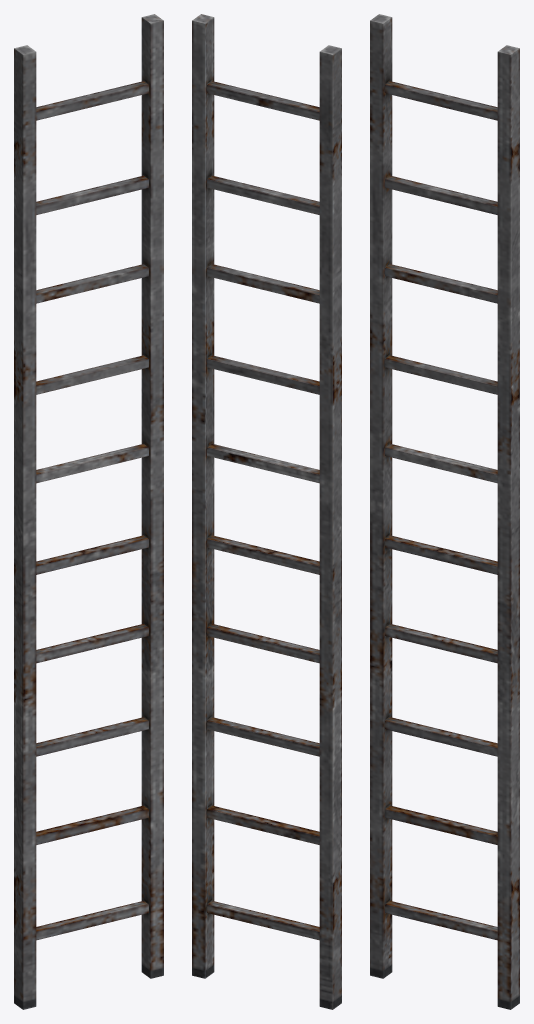
Rendered from Ladder_re.fbx.
3 views of the same model, side by side, from view 1: azimuth 30°, elevation 25°; view 2: azimuth 150°, elevation 25°; view 3: azimuth 330°, elevation 25° (orthographic).
Visible parts, largest first — view 1: Ladder_body, L3, L6, L2, L4, L1, L7, L10, L9, L8, L5; view 2: Ladder_body, L3, L6, L2, L4, L1, L7, L10, L9, L8, L5; view 3: Ladder_body, L3, L6, L2, L4, L1, L7, L10, L9, L8, L5.
Part boxes in pixels (<box>): Ladder_body: <box>14,14,163,1009</box>; L3: <box>36,264,148,303</box>; L6: <box>36,535,148,574</box>; L2: <box>36,175,148,214</box>; L4: <box>36,355,148,394</box>; L1: <box>36,81,148,120</box>; L7: <box>36,624,148,663</box>; L10: <box>36,901,148,940</box>; L9: <box>36,805,148,844</box>; L8: <box>36,717,148,756</box>; L5: <box>36,444,148,483</box>; Ladder_body: <box>192,14,341,1009</box>; L3: <box>207,264,319,303</box>; L6: <box>207,535,319,574</box>; L2: <box>207,175,319,214</box>; L4: <box>207,355,319,394</box>; L1: <box>207,81,319,120</box>; L7: <box>207,624,319,663</box>; L10: <box>207,901,319,940</box>; L9: <box>207,805,319,844</box>; L8: <box>207,717,319,756</box>; L5: <box>207,444,319,483</box>; Ladder_body: <box>370,14,519,1009</box>; L3: <box>385,264,497,303</box>; L6: <box>385,535,497,574</box>; L2: <box>385,175,497,214</box>; L4: <box>385,355,497,394</box>; L1: <box>385,81,497,120</box>; L7: <box>385,624,497,663</box>; L10: <box>385,901,497,940</box>; L9: <box>385,805,497,844</box>; L8: <box>385,717,497,756</box>; L5: <box>385,444,497,483</box>.
Size of the model in its own units: 0.5394 by 3.5 by 0.06.
